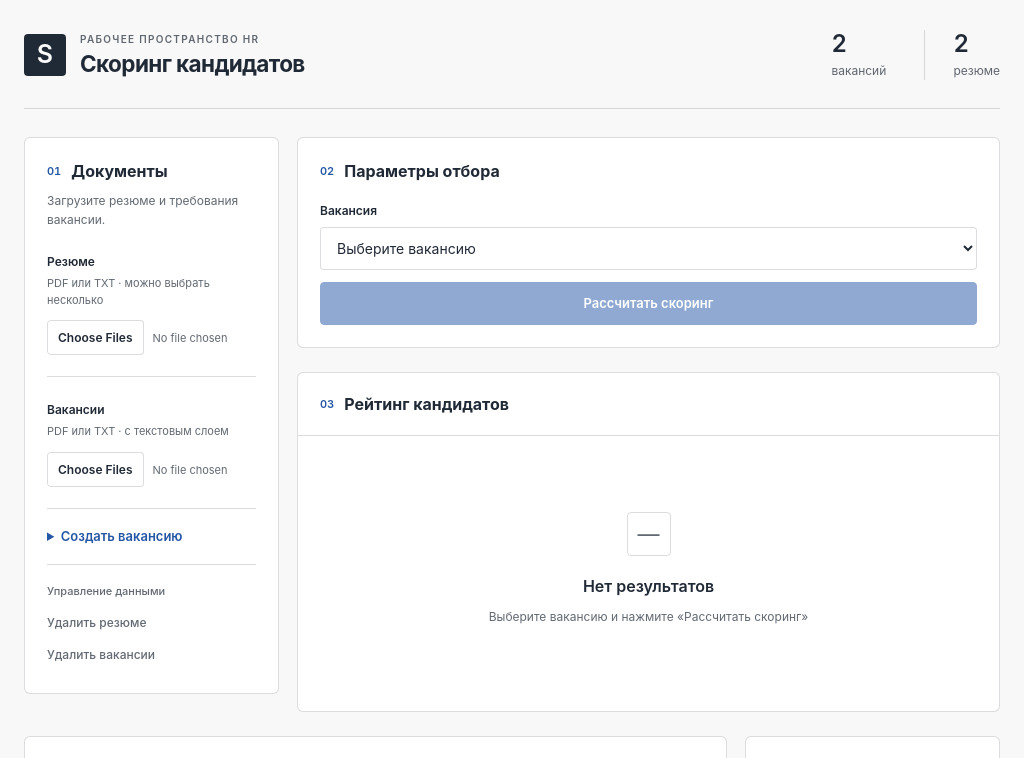
Test: ignores a scoring response for a vacancy that is no longer selected
The width and height of the screenshot is (1024, 758).
Select "First vacancy (ID: v1)" in the dropdown at (648, 248), box left=320, top=227, right=977, bottom=270
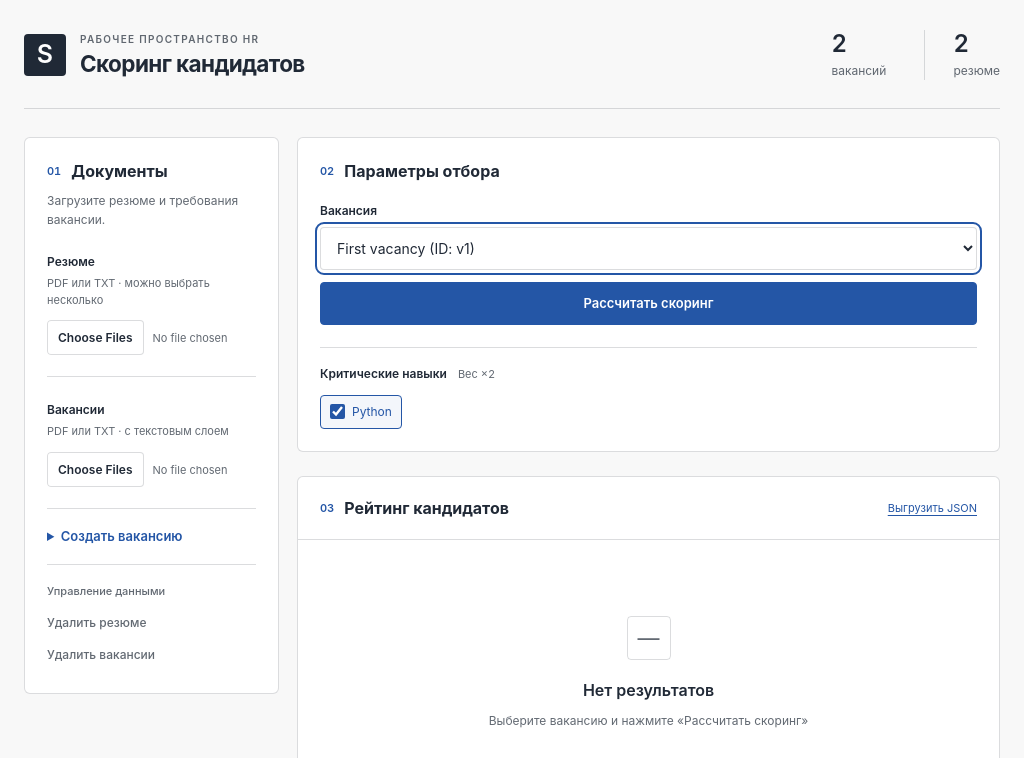
Click the button "Рассчитать скоринг" at (648, 304), box left=320, top=282, right=977, bottom=325
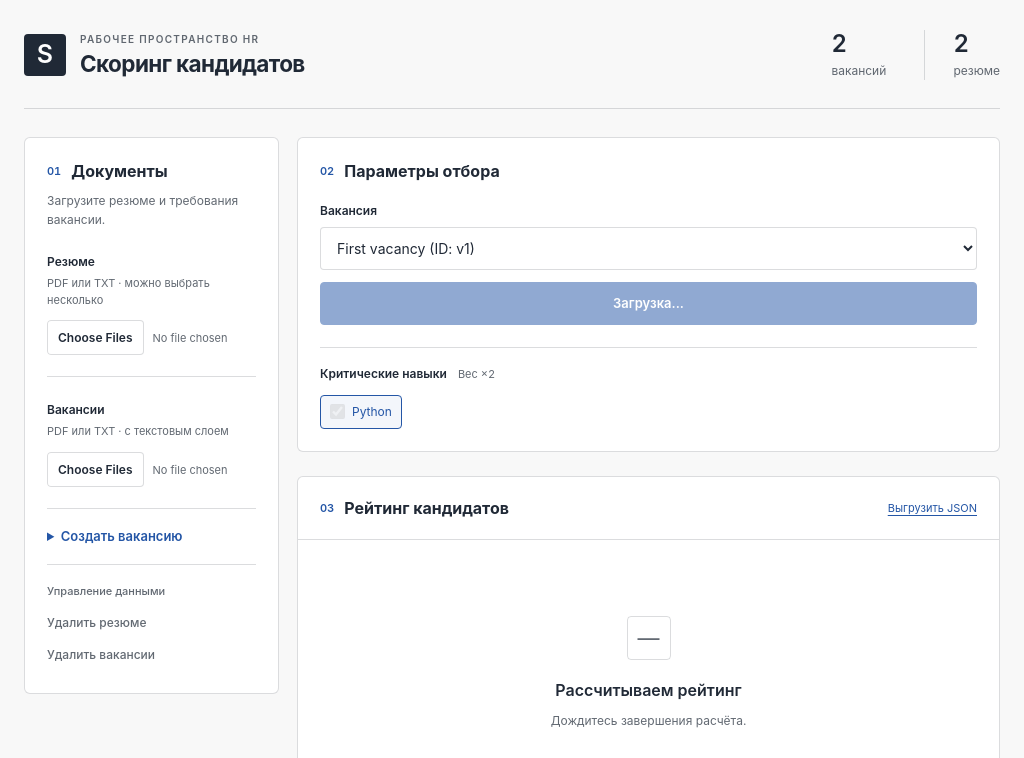
Select "Second vacancy (ID: v2)" in the dropdown at (648, 248), box left=320, top=227, right=977, bottom=270
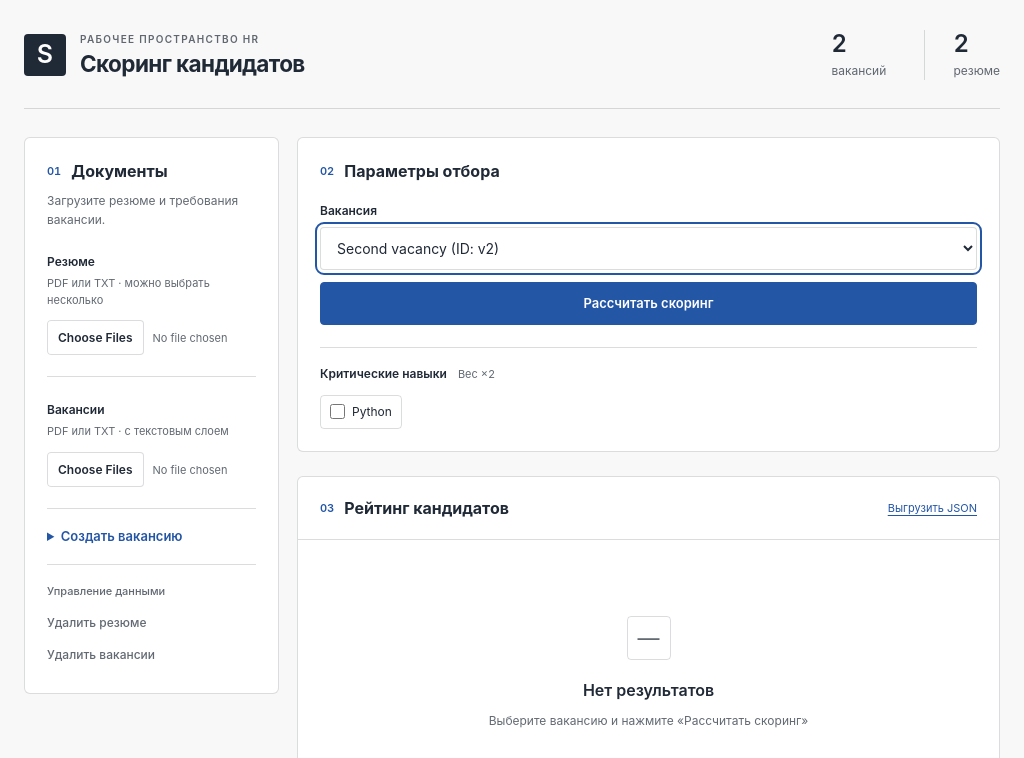
expect the button "Рассчитать скоринг" is enabled: met, box left=320, top=282, right=977, bottom=325
